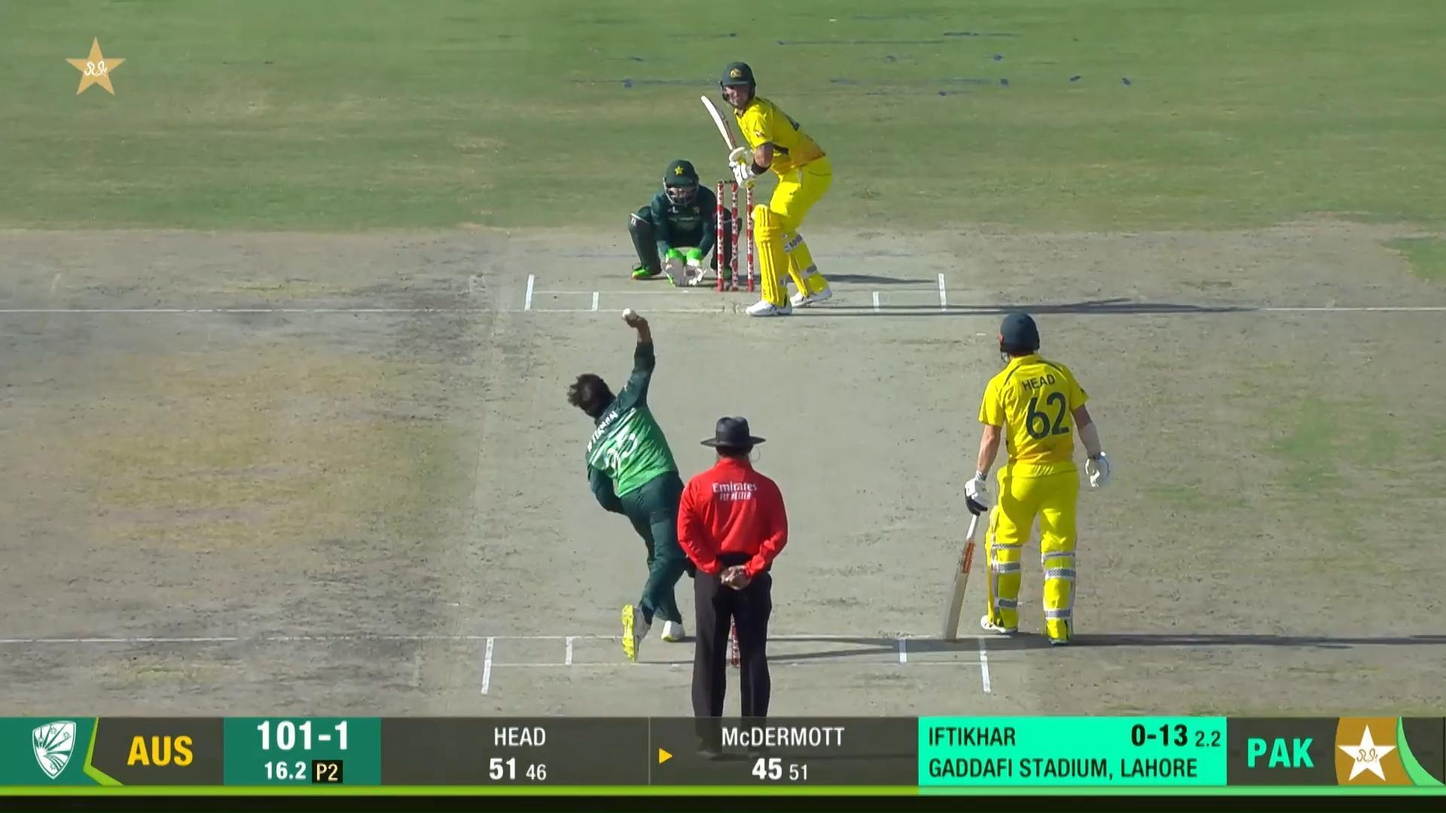BM 1: (700, 61, 834, 319)
BO: (567, 314, 686, 661)
